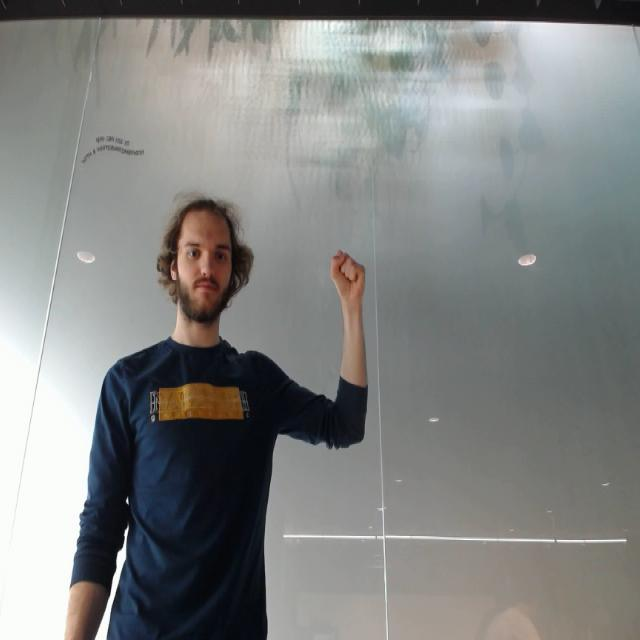stop: (328, 245, 370, 308)
